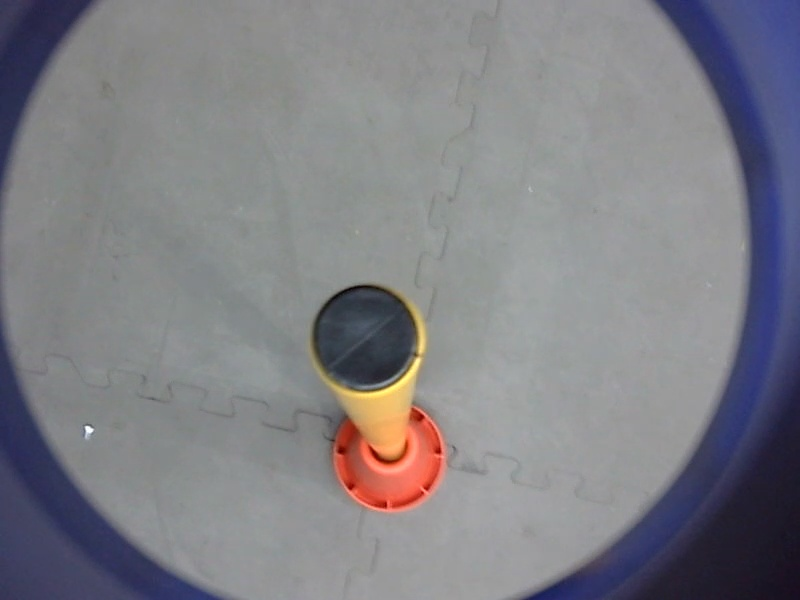tip: (303, 277, 432, 402)
